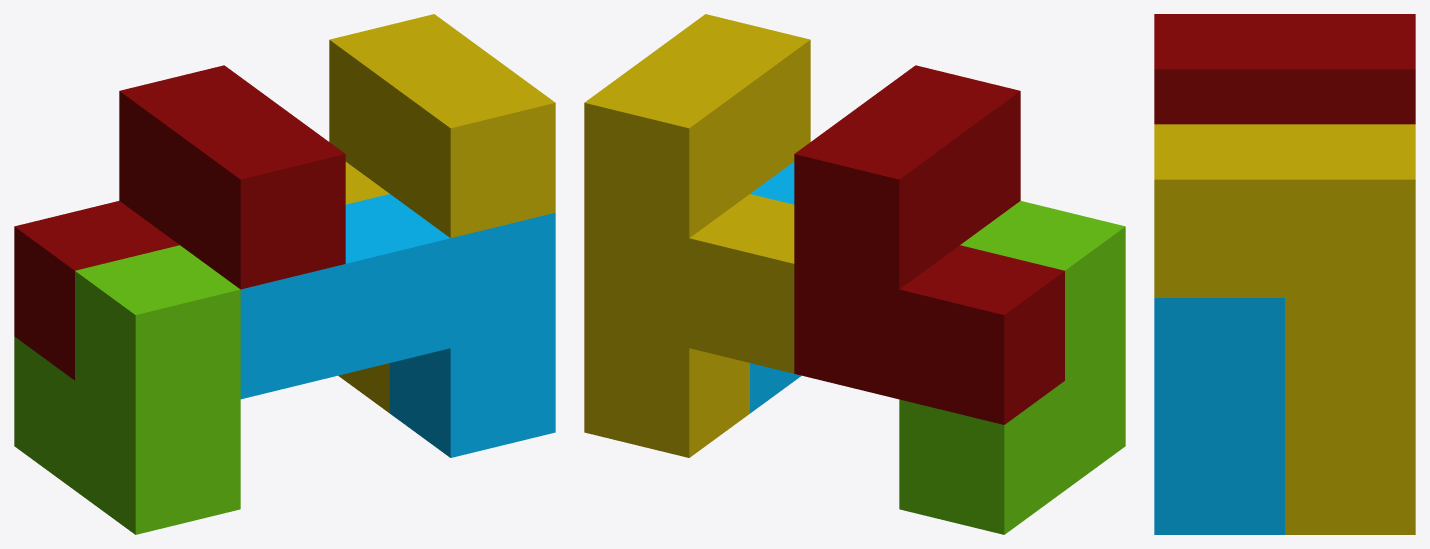
3 renders of one model, left to right at view 1: azimuth 30°, elevation 25°; view 2: azimuth 150°, elevation 25°; view 3: azimuth 270°, elevation 25°, orthographic. The views are drawn at different scales.
Parts seen in each view (by area): view 1: mergedBlocks(Clone); view 2: mergedBlocks(Clone); view 3: mergedBlocks(Clone).
Boxes of the visible parts, x1,y1,x2,y2 form: mergedBlocks(Clone): (14, 14, 555, 534); mergedBlocks(Clone): (584, 14, 1125, 534); mergedBlocks(Clone): (1154, 14, 1415, 534).
Size of the model in its own units: 4 by 3 by 2.
4 materials, 4 textured.
